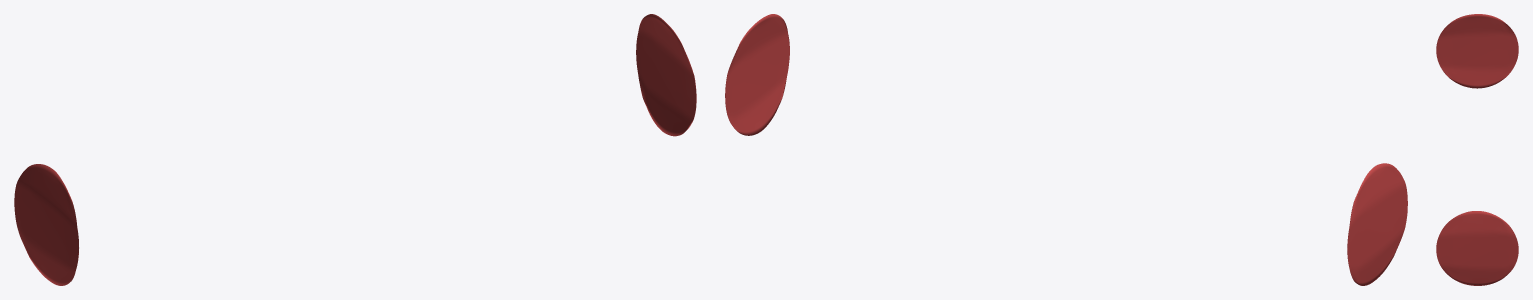
Rendered from RN02_race_roundels_accent.glb.
3 renders of one model, left to right at view 1: azimuth 30°, elevation 25°; view 2: azimuth 150°, elevation 25°; view 3: azimuth 270°, elevation 25°, orthographic. The views are drawn at different scales.
Parts seen in each view (by area): view 1: MOD_ND_RN02_disc_R, MOD_ND_RN02_disc_L; view 2: MOD_ND_RN02_disc_L, MOD_ND_RN02_disc_R; view 3: MOD_ND_RN02_disc_L, MOD_ND_RN02_disc_R.
Part boxes in pixels (x1,y1,x2,y2): MOD_ND_RN02_disc_R: (14, 164, 78, 285); MOD_ND_RN02_disc_L: (636, 14, 696, 136); MOD_ND_RN02_disc_L: (725, 14, 789, 135); MOD_ND_RN02_disc_R: (1347, 163, 1407, 285); MOD_ND_RN02_disc_L: (1436, 211, 1518, 285); MOD_ND_RN02_disc_R: (1436, 14, 1518, 88).
Bounding box in the file's own units: 1.72 × 0.3 × 0.3.
